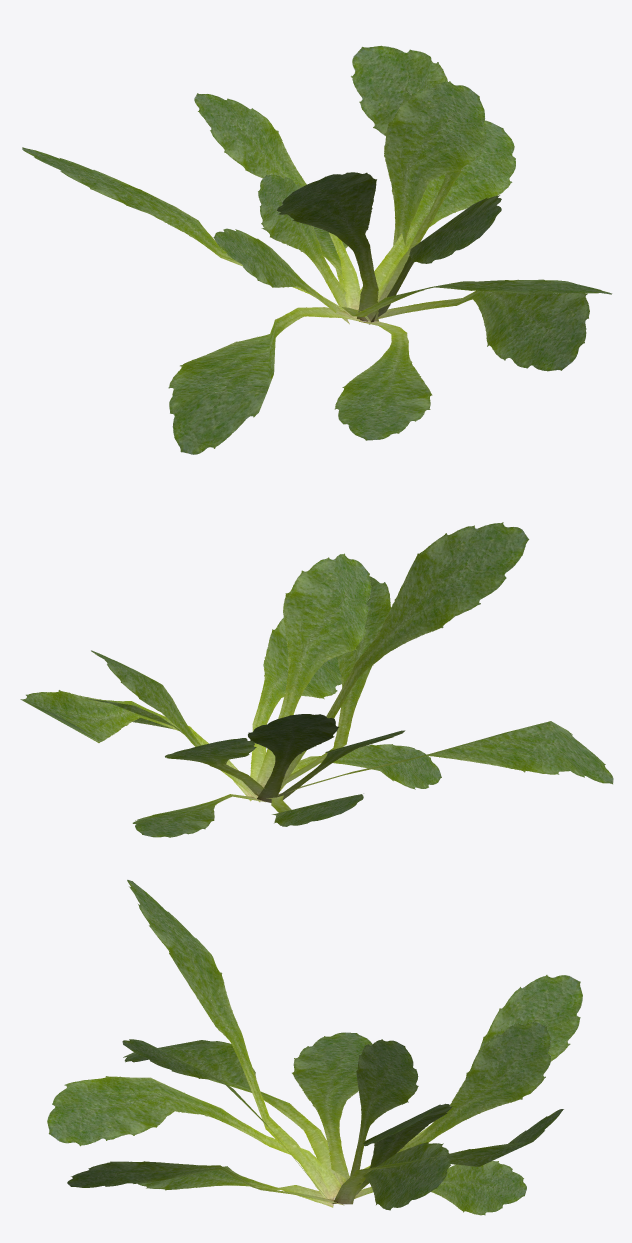
Rendered from daisyA_noFlower_u10cm_tri_decim01.obj.
3 renders of one model, top to bottom at view 1: azimuth 30°, elevation 25°; view 2: azimuth 150°, elevation 25°; view 3: azimuth 270°, elevation 25°, orthographic. The views are drawn at different scales.
Parts seen in each view (by area): view 1: daisyA; view 2: daisyA; view 3: daisyA.
Boxes of the visible parts, x1,y1,x2,y2 form: daisyA: [22, 45, 612, 454]; daisyA: [20, 522, 613, 837]; daisyA: [47, 879, 582, 1215].
Size of the model in its own units: 0.9897 by 0.5661 by 1.05.
